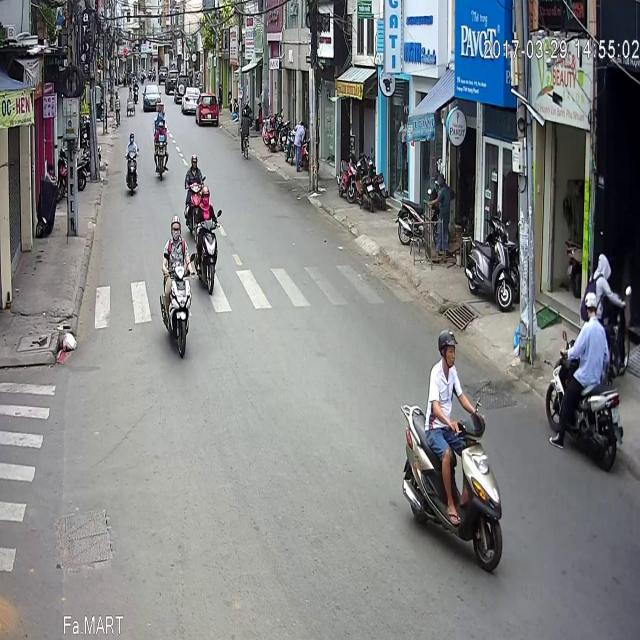bicycle: (239, 51, 251, 101)
car: (194, 34, 218, 68)
motorcycle: (400, 270, 502, 516), (545, 233, 624, 414), (159, 156, 195, 300), (193, 127, 222, 237), (183, 96, 205, 172), (124, 73, 140, 138), (153, 62, 169, 123)
